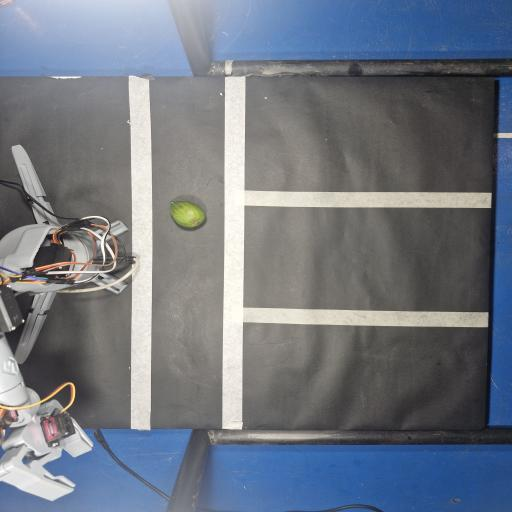higo: (170, 201, 205, 228)
